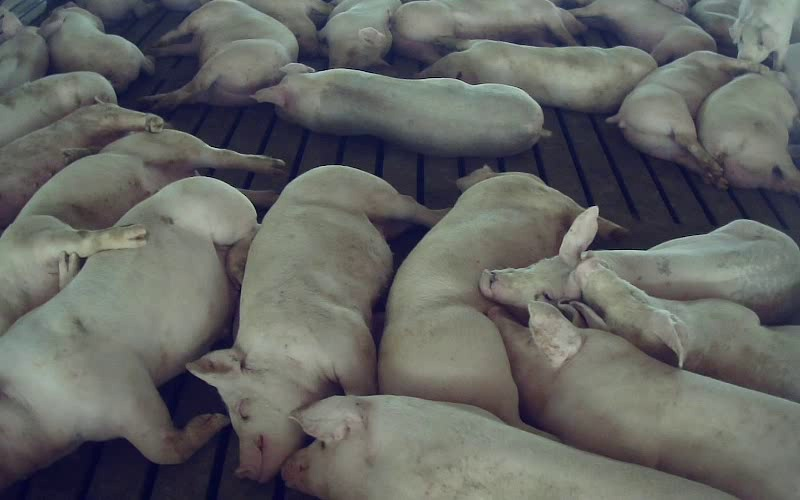pig: (0, 177, 275, 488), (187, 166, 445, 480), (489, 301, 799, 499), (0, 130, 283, 334), (379, 166, 581, 440), (282, 395, 731, 499), (480, 207, 799, 322), (570, 260, 799, 401), (255, 63, 549, 155), (607, 51, 764, 187), (0, 103, 163, 227), (419, 39, 656, 112), (143, 0, 298, 110), (697, 72, 799, 192), (391, 0, 584, 63), (570, 0, 716, 65), (48, 5, 152, 92), (0, 71, 116, 146), (319, 0, 400, 68), (0, 7, 62, 93), (729, 0, 799, 69)
